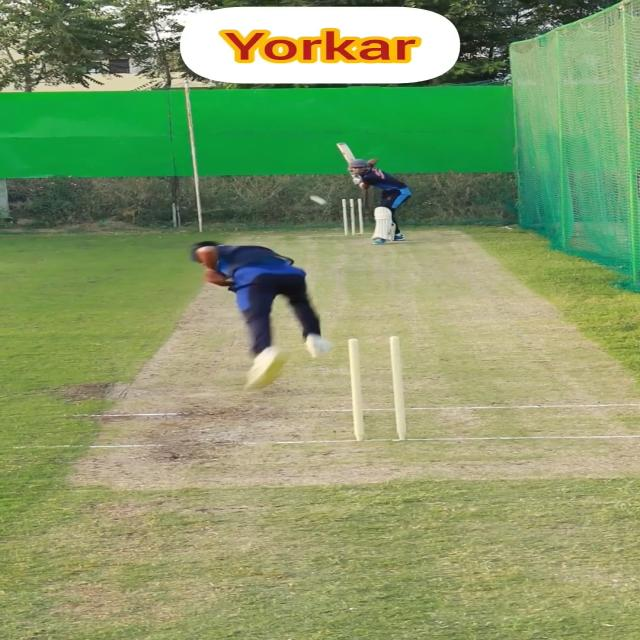ball: (317, 199, 328, 206)
stump: (347, 335, 409, 441), (340, 199, 364, 236)
